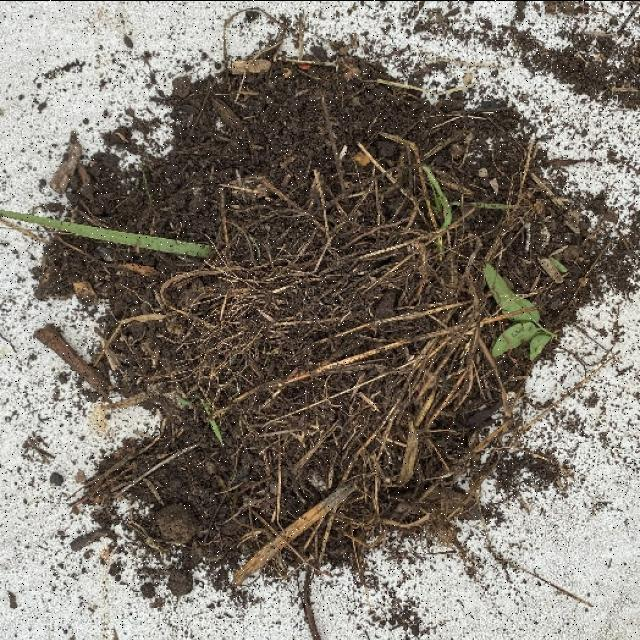organik: (71, 80, 584, 554)
